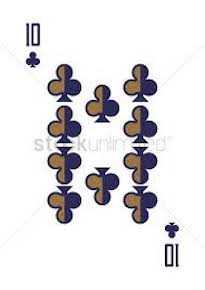TenOfClubs: (9, 15, 201, 279)
